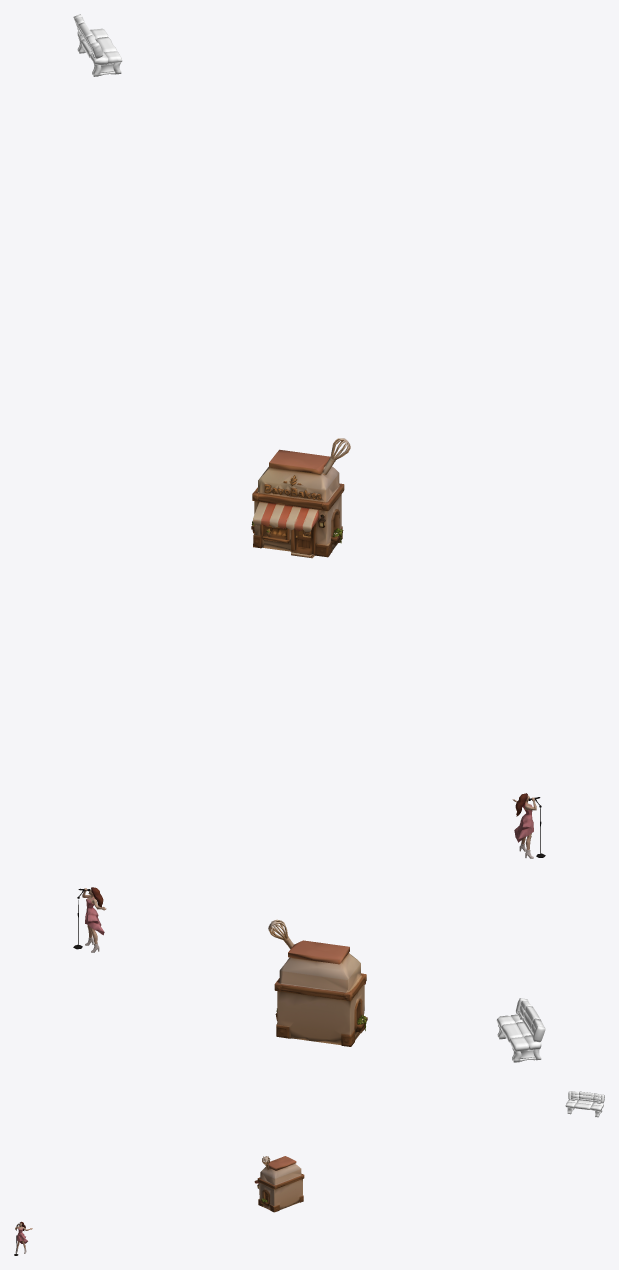
The model's file is subjects.glb.
The picture shows the model from 3 angles, top to bottom: view 1: azimuth 30°, elevation 25°; view 2: azimuth 210°, elevation 25°; view 3: azimuth 270°, elevation 25°; orthographic projection. The views are drawn at different scales.
Visible parts, largest first — view 1: tripo_node_e70704d4-4ce1-4bf4-974e-d1eea2c8202b, Stylized Cartoon Stone Bench; view 2: tripo_node_e70704d4-4ce1-4bf4-974e-d1eea2c8202b, Stylized Cartoon Stone Bench, tripo_node_1feaf1fd-79b2-4217-a867-f97ada61b588; view 3: tripo_node_e70704d4-4ce1-4bf4-974e-d1eea2c8202b, Stylized Cartoon Stone Bench, tripo_node_1feaf1fd-79b2-4217-a867-f97ada61b588.
Boxes of the visible parts, <box> form: tripo_node_e70704d4-4ce1-4bf4-974e-d1eea2c8202b: <box>251,438,350,558</box>; Stylized Cartoon Stone Bench: <box>73,14,122,76</box>; tripo_node_e70704d4-4ce1-4bf4-974e-d1eea2c8202b: <box>268,919,367,1046</box>; Stylized Cartoon Stone Bench: <box>496,998,545,1062</box>; tripo_node_1feaf1fd-79b2-4217-a867-f97ada61b588: <box>73,887,106,952</box>; tripo_node_e70704d4-4ce1-4bf4-974e-d1eea2c8202b: <box>254,1156,304,1212</box>; Stylized Cartoon Stone Bench: <box>565,1091,604,1117</box>; tripo_node_1feaf1fd-79b2-4217-a867-f97ada61b588: <box>14,1221,32,1255</box>.
Bounding box in the file's own units: 2.9 × 6.09 × 17.08.
3 materials, 2 textured.
